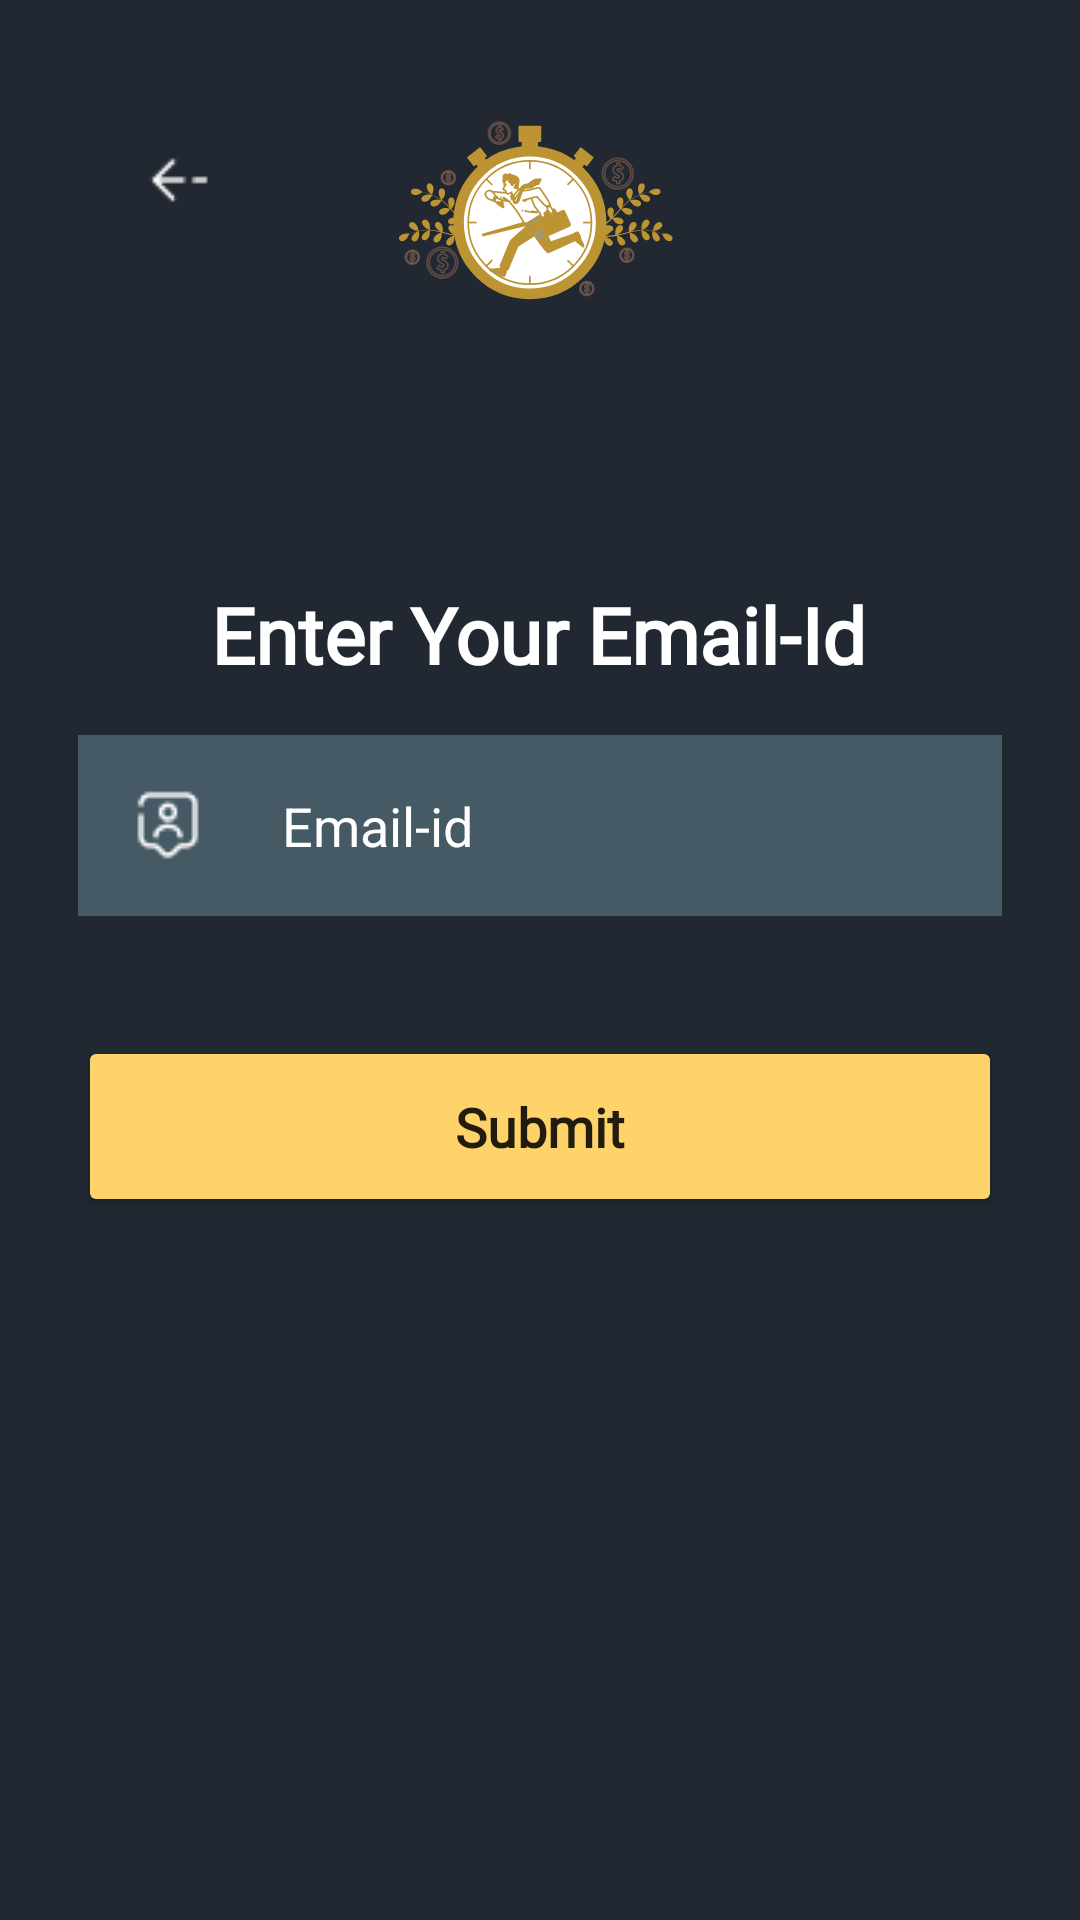

Icons on this 1080×1920 Android screen, each with the point to tap as (x=x, y=y):
arrowleft: (x=179, y=180)
